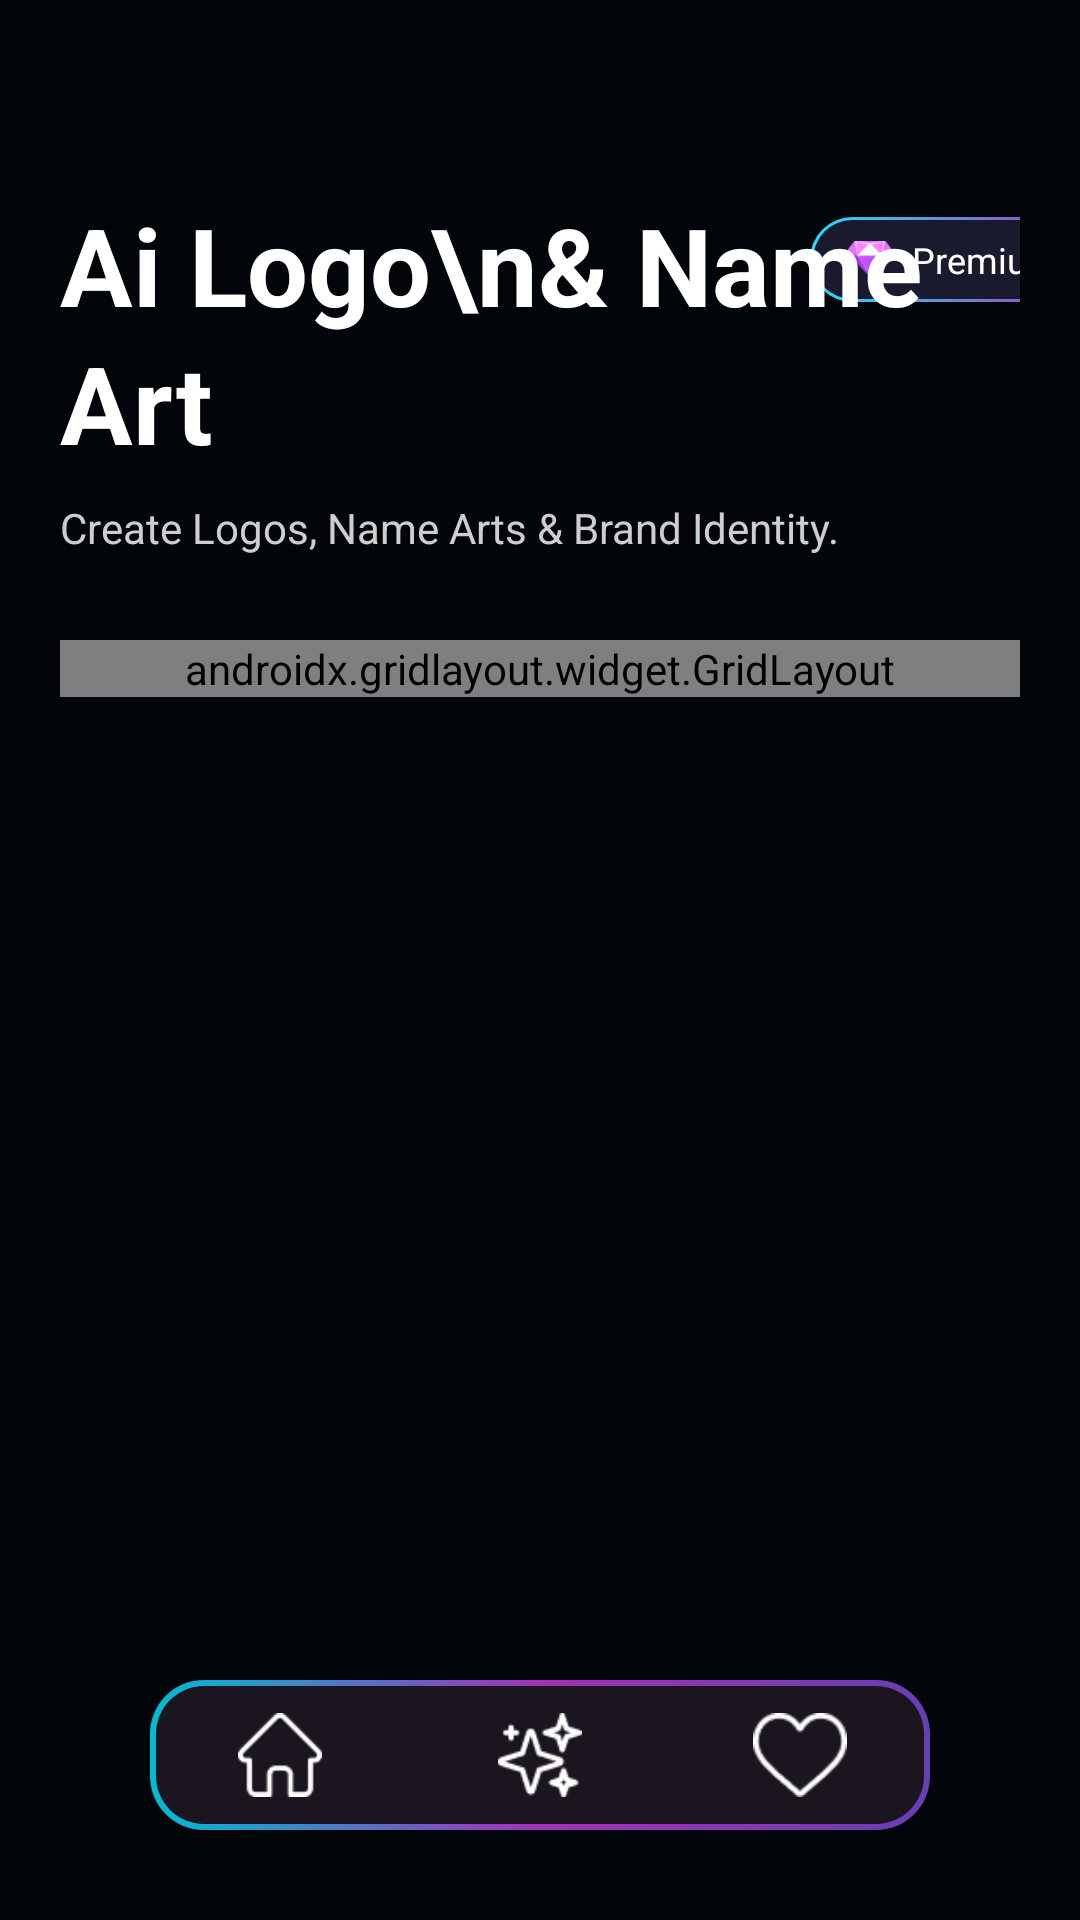

Screen size 1080 × 1920. Icon name, then its box in pixels as {"x1": x1, "y1": y1, "x2": x2, "y2": y2}:
heart: {"x1": 753, "y1": 1713, "x2": 847, "y2": 1797}
home: {"x1": 238, "y1": 1713, "x2": 322, "y2": 1797}
sparkle nav: {"x1": 498, "y1": 1713, "x2": 582, "y2": 1797}
